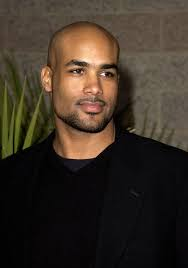person: (39, 20, 120, 133)
